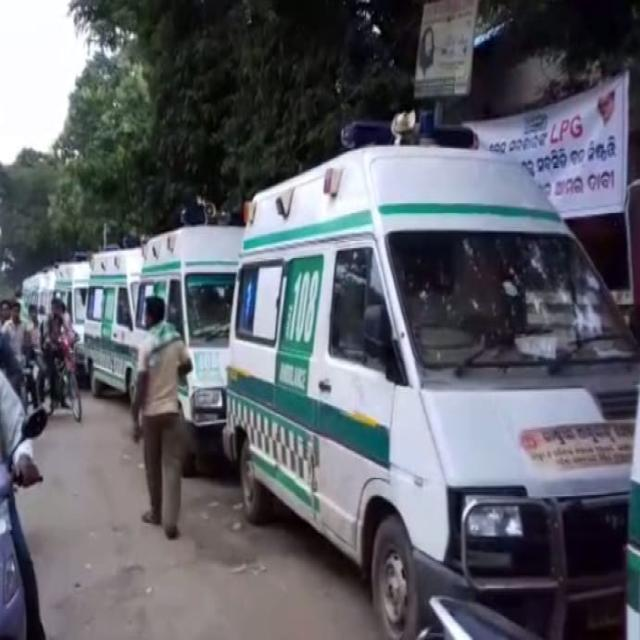Ambulance: (0, 104, 639, 639), (5, 368, 395, 639), (127, 217, 246, 476), (126, 294, 197, 542)
